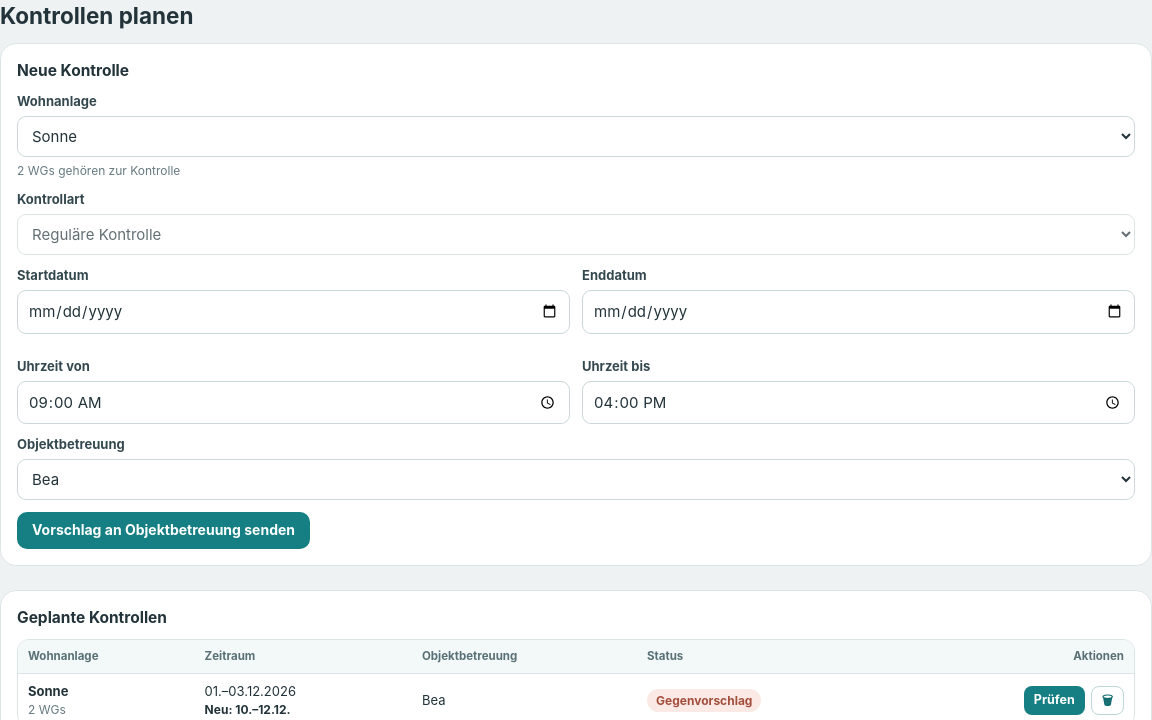
Test case: shows a short counter proposal in the list and its details in a dialog
Expected: the text "Neu: 10.–12.12." is shown, [205,702,291,717]
Expected: the text "Urlaub" is not shown
Click the link with aria-label "Gegenvorschlag für Sonne prüfen".
click(1054, 700)  # box [1024,686,1085,715]
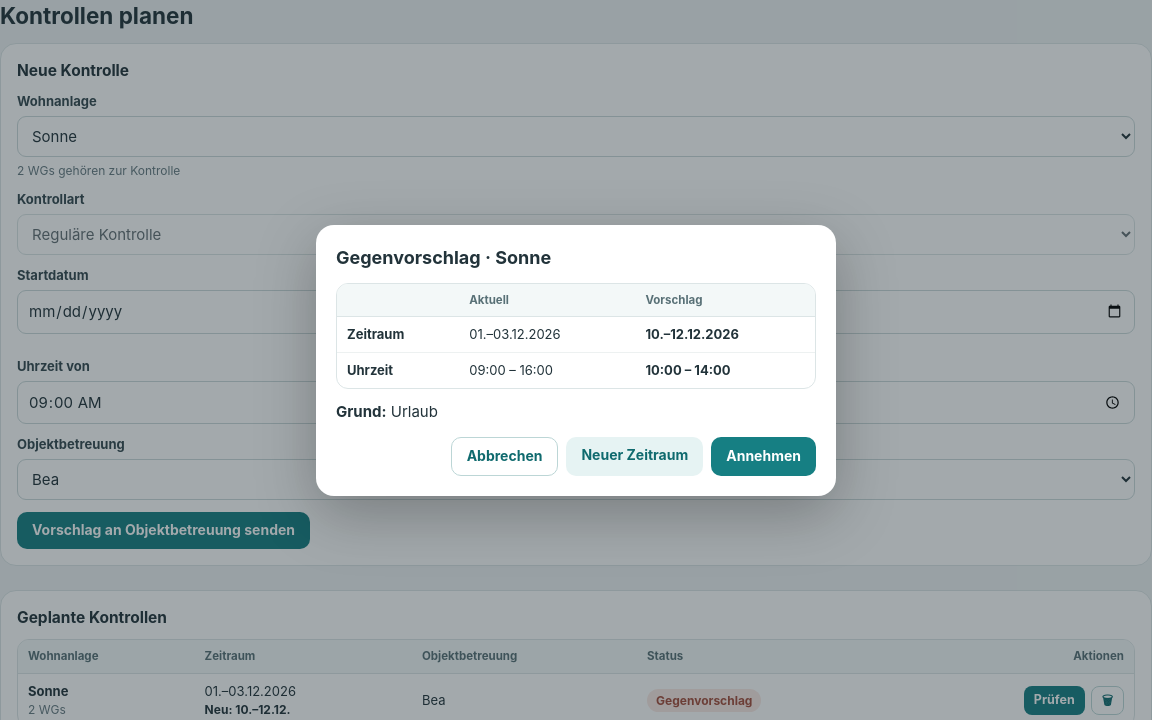
Now the text "01.–03.12.2026" is shown, box [459,317,635,353]
Now the text "10.–12.12.2026" is shown, box [635,317,815,353]
Now the text "09:00 – 16:00" is shown, box [459,353,635,388]
Click the button "Annehmen".
click(764, 456)  # box [711,437,816,476]
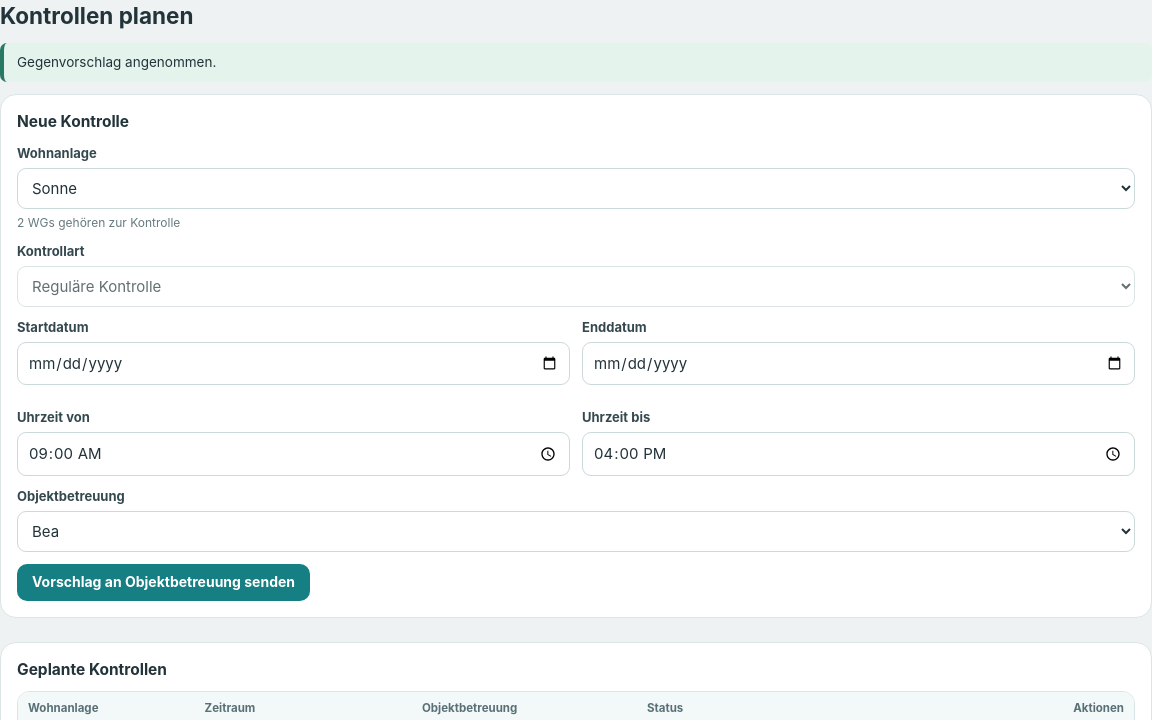
Now the message reads "Gegenvorschlag angenommen.", box [17,54,216,70]
